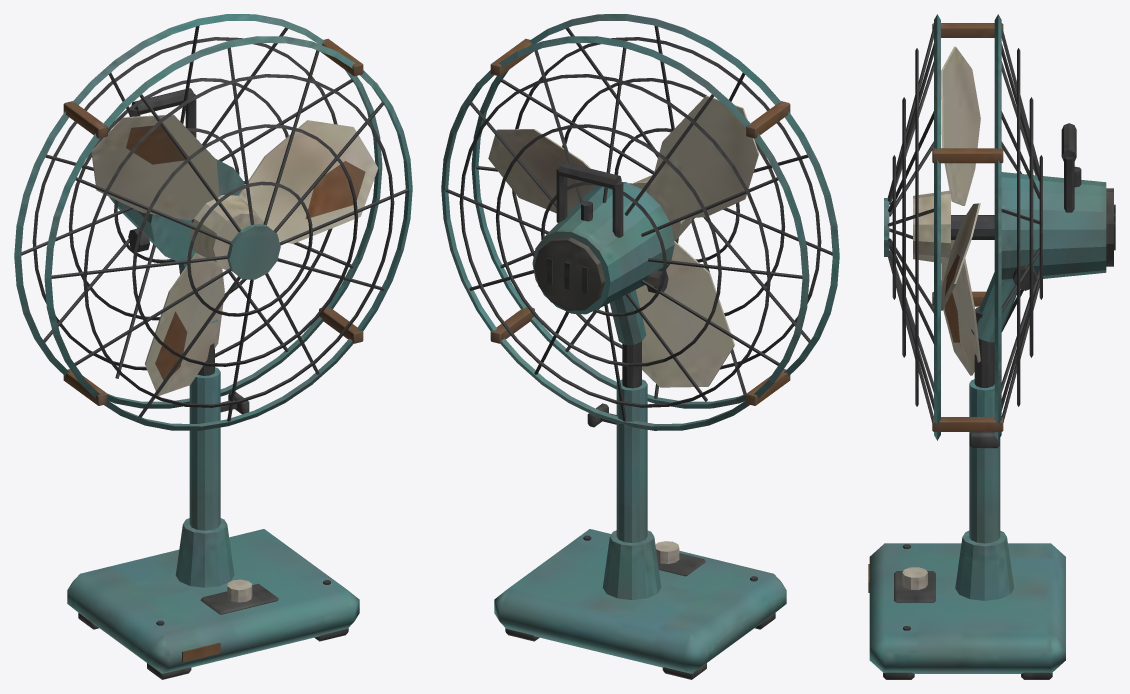
Rendered from F44_industrial_floor_fan.glb.
The picture shows the model from 3 angles, left to right: view 1: azimuth 30°, elevation 25°; view 2: azimuth 150°, elevation 25°; view 3: azimuth 270°, elevation 25°; orthographic projection.
Visible parts, largest first — view 1: Heavy rounded pedestal; view 2: Heavy rounded pedestal; view 3: Heavy rounded pedestal.
Part boxes in pixels (<box>): Heavy rounded pedestal: <box>14,14,412,679</box>; Heavy rounded pedestal: <box>441,14,839,679</box>; Heavy rounded pedestal: <box>868,14,1115,679</box>.
Bounding box in the file's own units: 0.6442 × 1 × 0.3726.
Materials: 6 (6 with a texture image).
